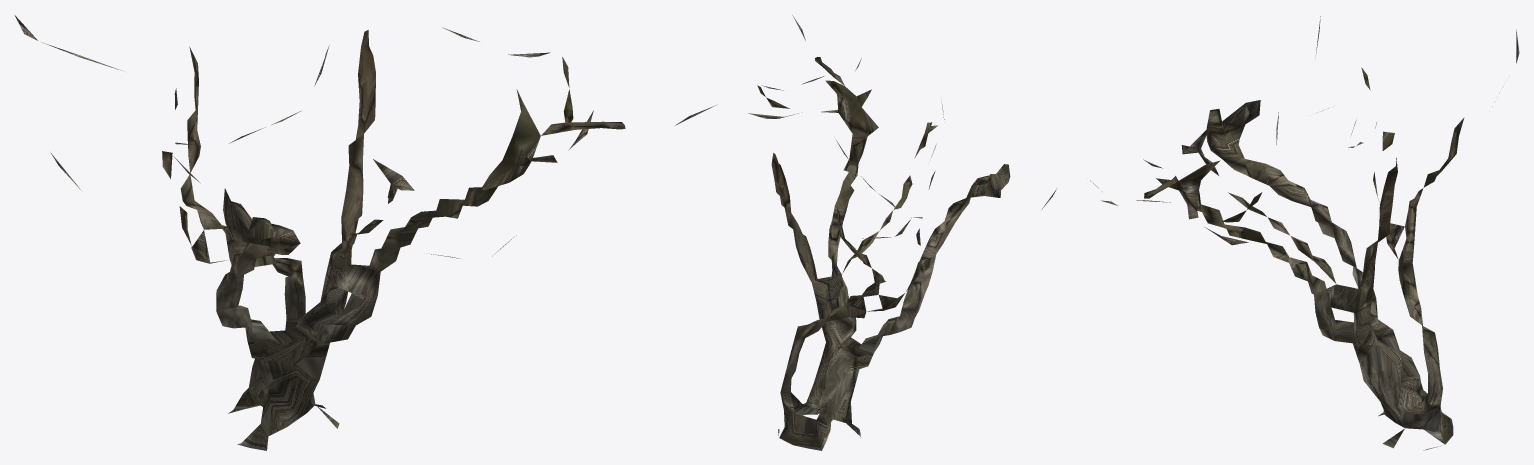
File: island_tree_02_L1_madera.glb
3 renders of one model, left to right at view 1: azimuth 30°, elevation 25°; view 2: azimuth 150°, elevation 25°; view 3: azimuth 270°, elevation 25°, orthographic. The views are drawn at different scales.
Visible parts, largest first — view 1: island_tree_02_LOD0; view 2: island_tree_02_LOD0; view 3: island_tree_02_LOD0.
Part boxes in pixels (left/top/right/bottom): island_tree_02_LOD0: left=14, top=15, right=717, bottom=450; island_tree_02_LOD0: left=748, top=15, right=1056, bottom=450; island_tree_02_LOD0: left=1090, top=16, right=1519, bottom=450.
Bounding box in the file's own units: 3.47 × 2.78 × 3.12.
Materials: 2 (2 with a texture image).
